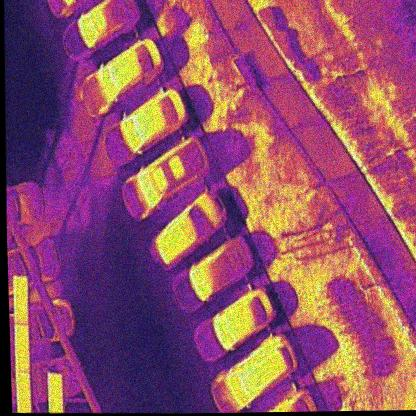Normal: (11, 274, 29, 324), (13, 324, 30, 372), (13, 371, 31, 412)
